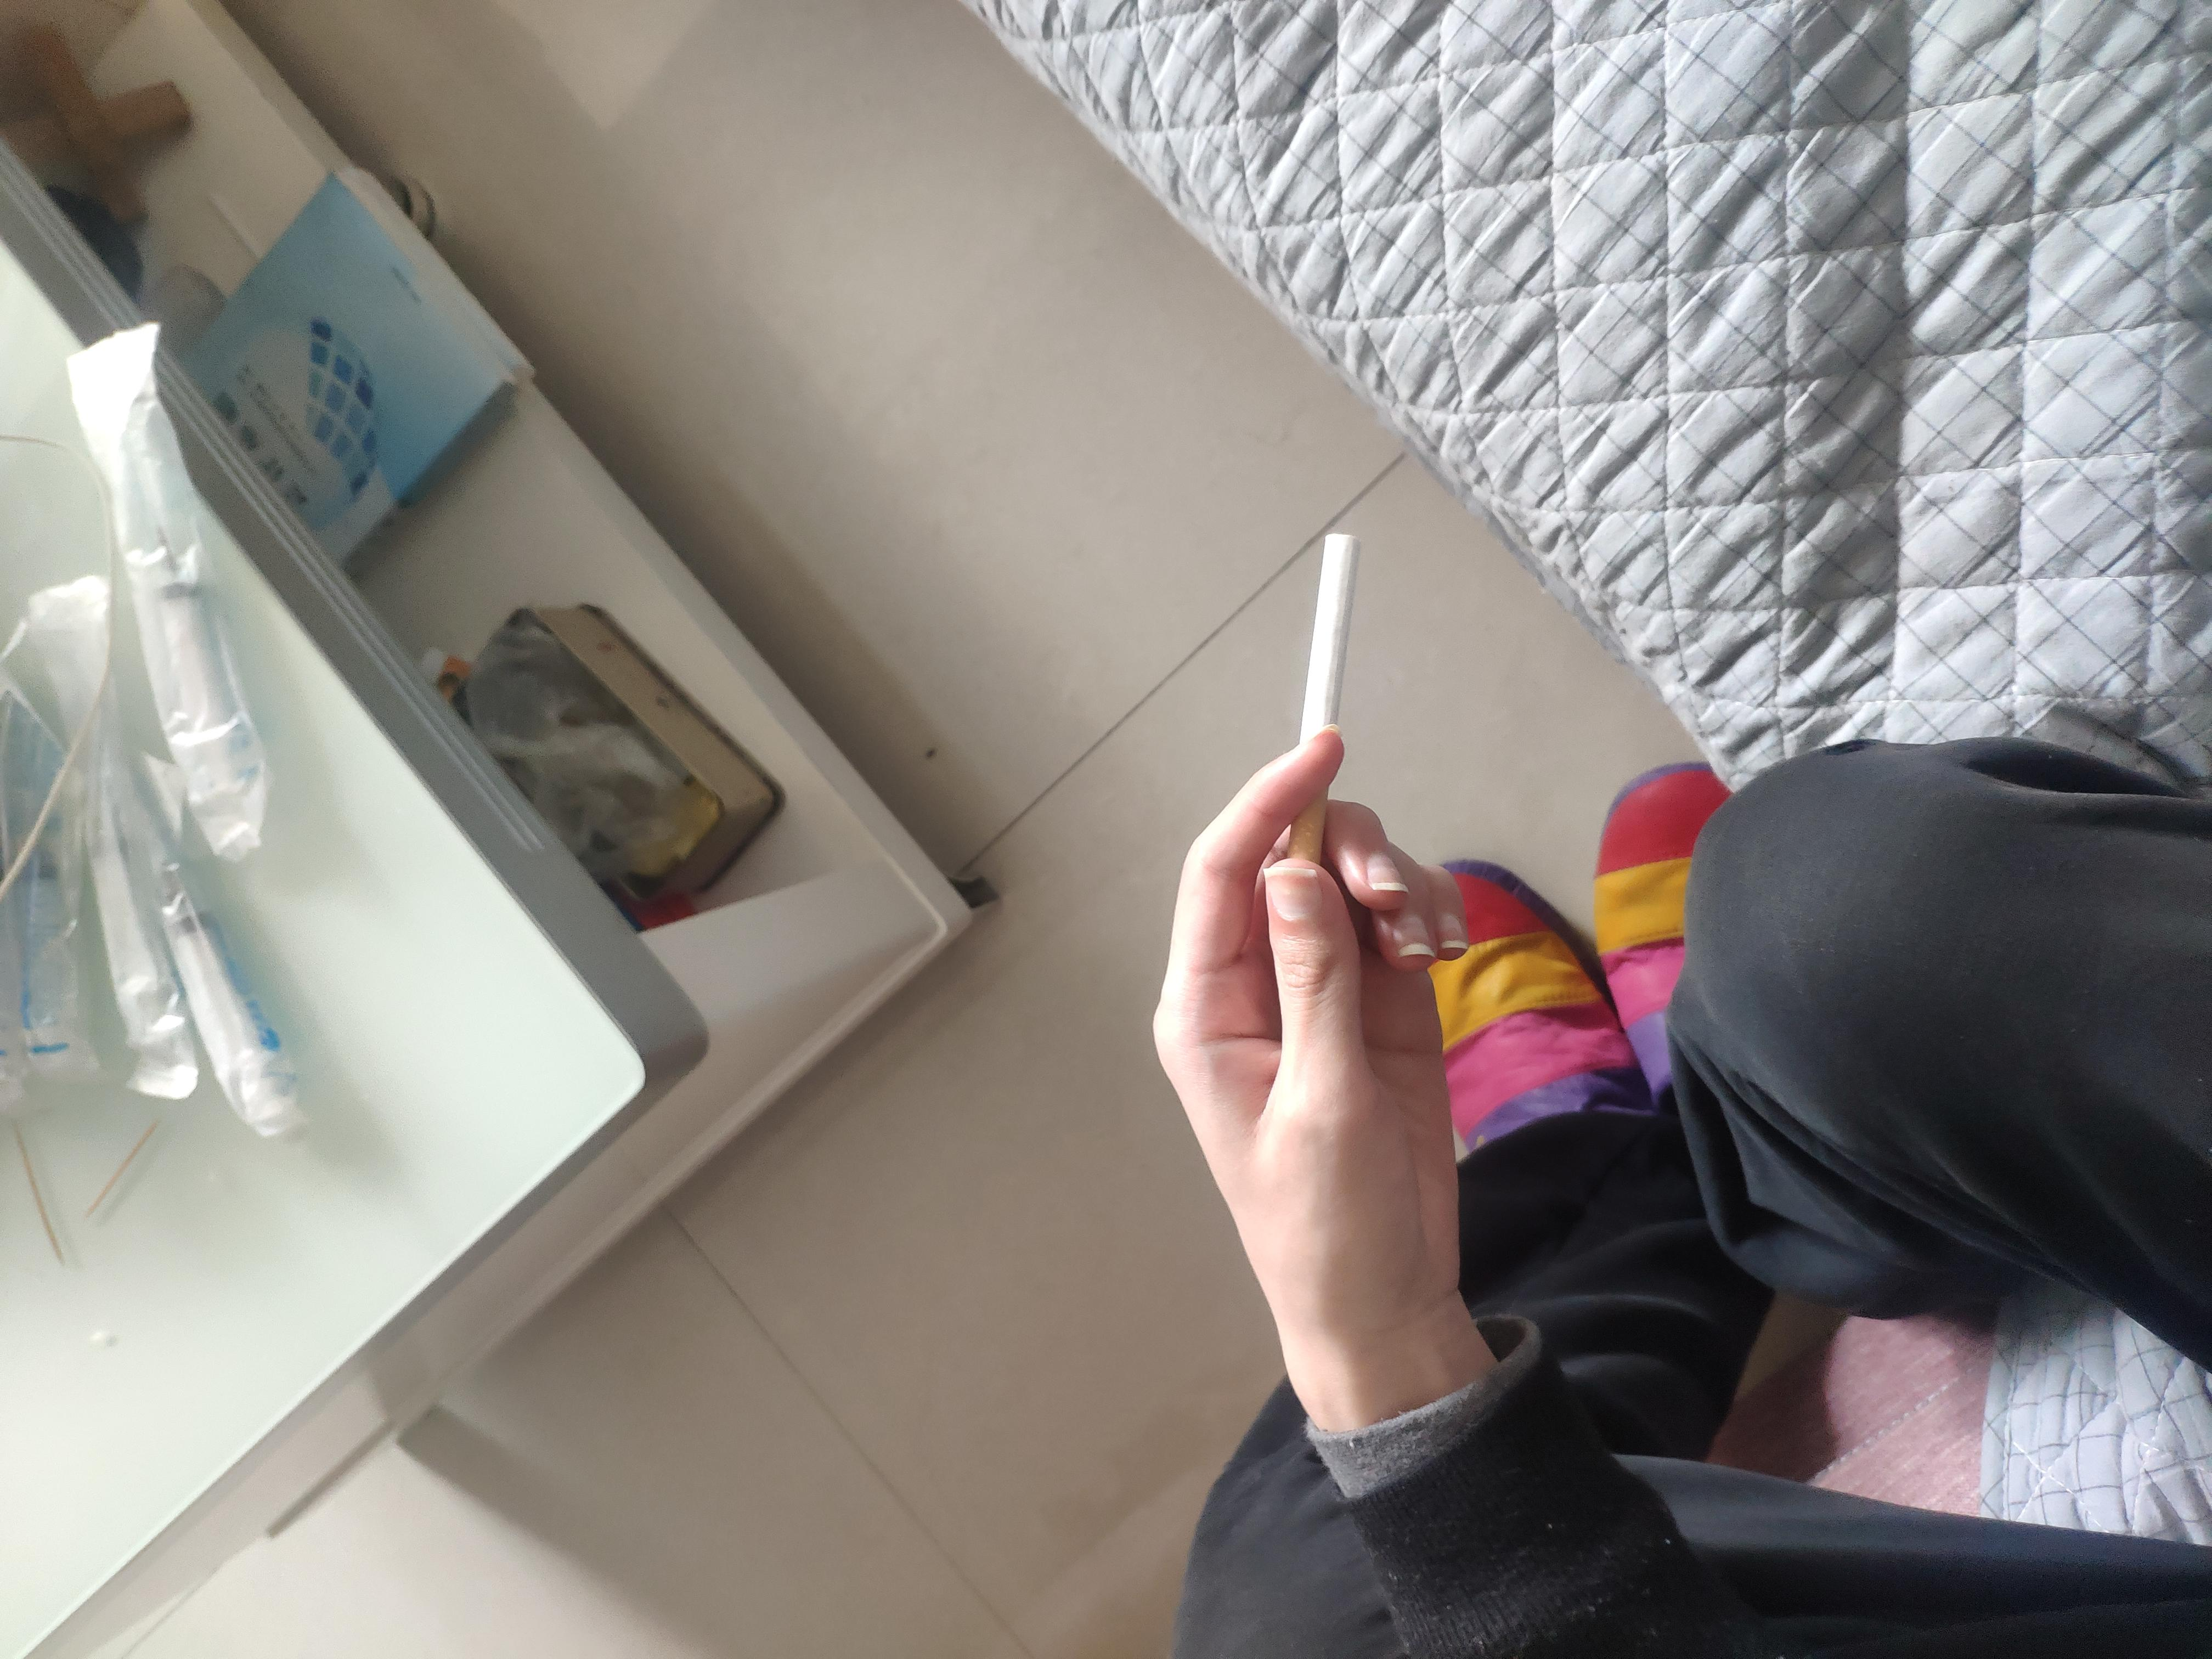smoke: (1036, 967, 1508, 1018)
